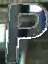Parking: (6, 3, 45, 62)
